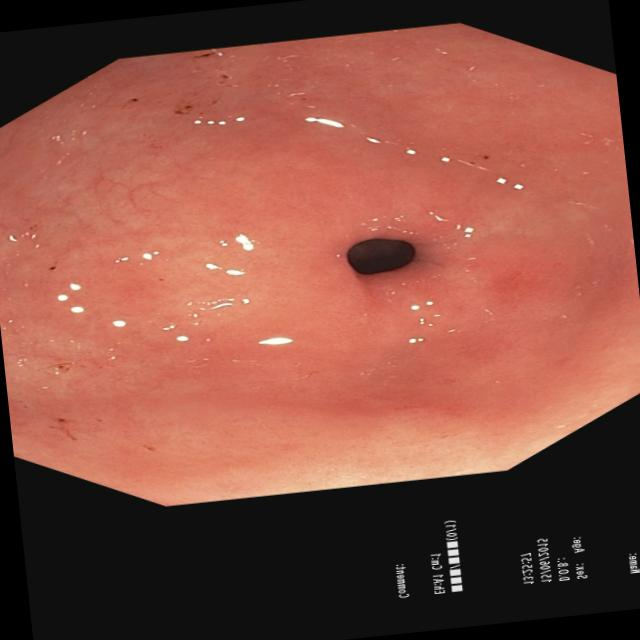normal-pylorus: (44, 128, 395, 387), (444, 219, 606, 342)
